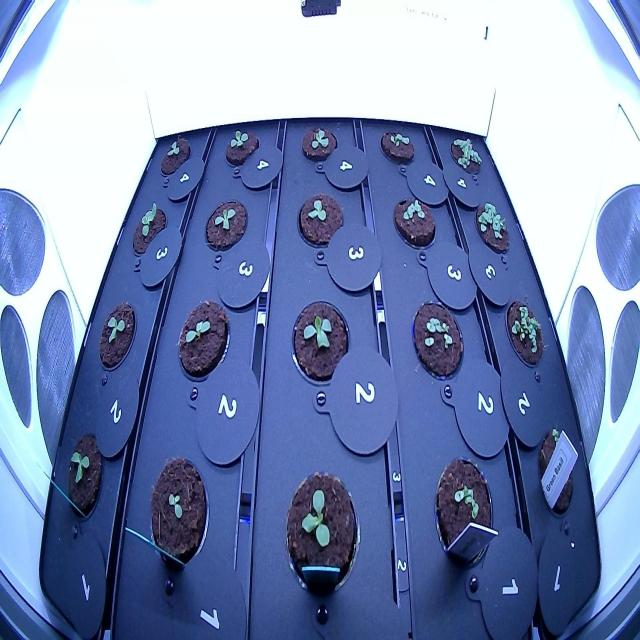germination: (282, 461, 364, 609), (427, 448, 498, 574), (146, 450, 212, 578), (173, 295, 232, 387), (61, 422, 110, 529), (406, 296, 465, 383), (532, 422, 579, 526), (292, 184, 347, 256), (95, 292, 139, 378), (388, 185, 440, 257), (502, 292, 547, 373), (472, 195, 513, 262), (299, 120, 342, 168), (447, 130, 485, 181), (377, 125, 420, 167), (158, 134, 193, 181)
young: (287, 295, 355, 394), (200, 193, 250, 262), (128, 199, 168, 263), (221, 123, 262, 173)
